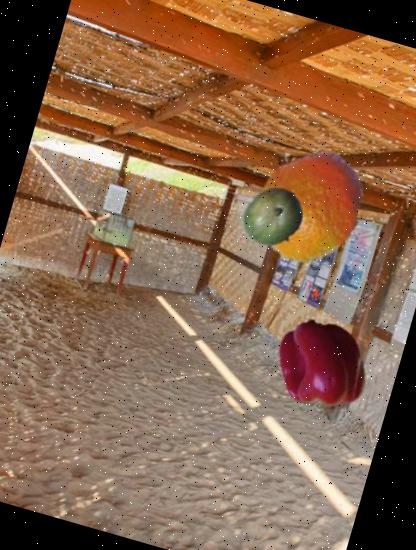Mandarine: (237, 134, 383, 280)
Mango: (234, 178, 313, 258)
Pepper: (265, 307, 380, 422)
